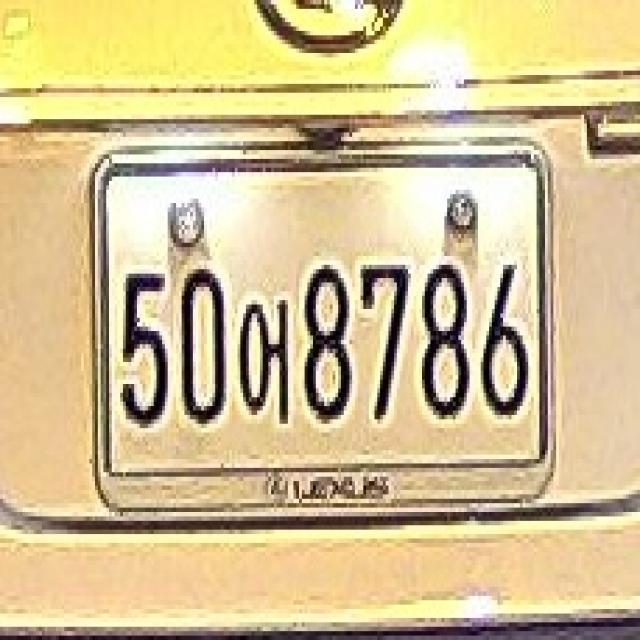0: (177, 252, 231, 450)
5: (119, 256, 169, 438)
6: (478, 262, 532, 430)
7: (357, 253, 412, 440)
8: (419, 253, 474, 436), (301, 256, 354, 431)
eo: (236, 280, 296, 440)
license_plate: (66, 142, 569, 516)
